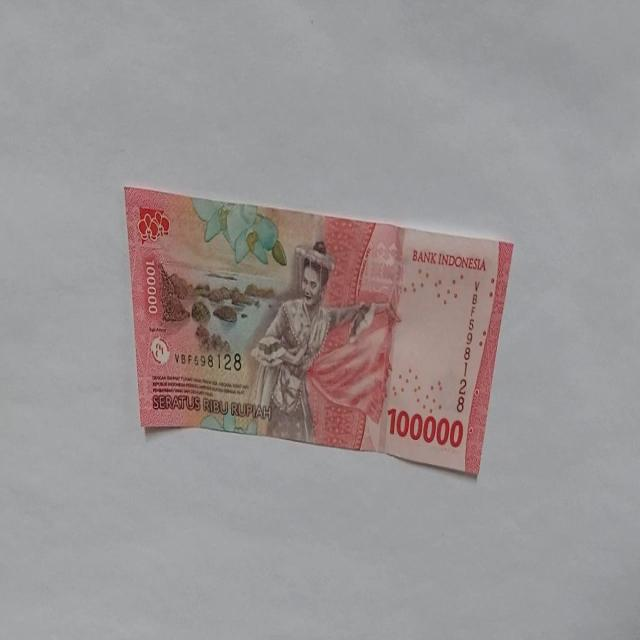Kertas: (123, 184, 514, 478), (386, 405, 464, 449)
